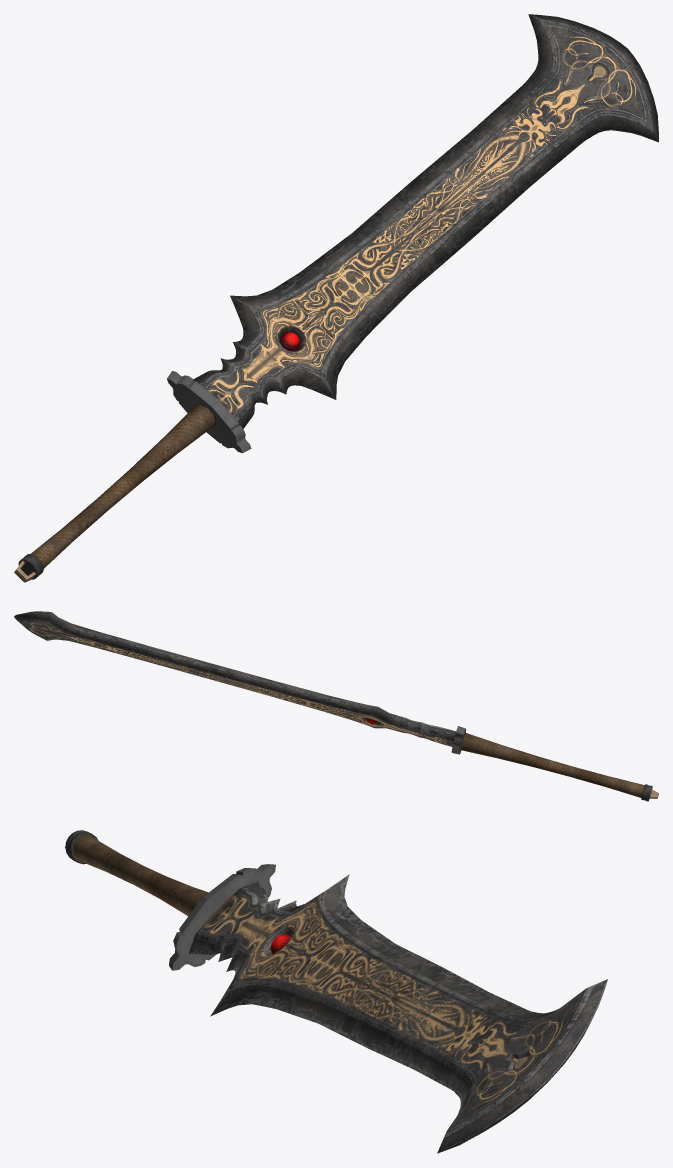
Rendered from night_sword.glb.
The picture shows the model from 3 angles, top to bottom: view 1: azimuth 30°, elevation 25°; view 2: azimuth 150°, elevation 25°; view 3: azimuth 270°, elevation 25°; orthographic projection. The views are drawn at different scales.
Visible parts, largest first — view 1: LowpolySword001; view 2: LowpolySword001; view 3: LowpolySword001.
Part boxes in pixels (box(x1,y1,x2,y2)): LowpolySword001: box(14, 14, 658, 582); LowpolySword001: box(14, 611, 658, 801); LowpolySword001: box(65, 830, 607, 1153).
Size of the model in its own units: 781 by 237 by 346.
1 material, 1 textured.
